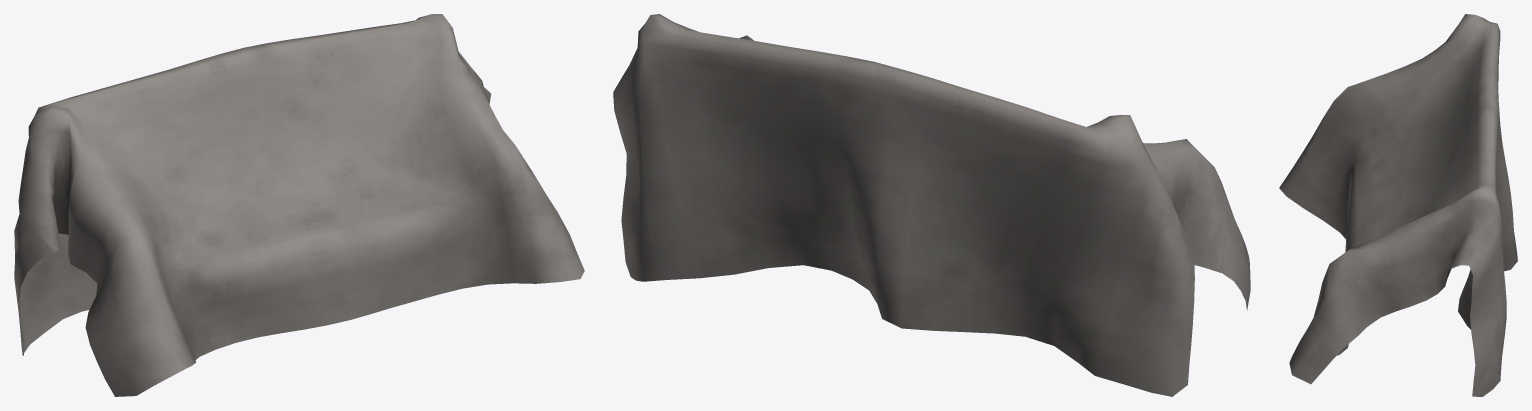
File: bench_cover_plastic.dae
3 views of the same model, side by side, from view 1: azimuth 30°, elevation 25°; view 2: azimuth 150°, elevation 25°; view 3: azimuth 270°, elevation 25° (orthographic). The views are drawn at different scales.
Visible parts, largest first — view 1: pPlane5; view 2: pPlane5; view 3: pPlane5.
Part boxes in pixels (left/top/right/bottom): pPlane5: left=14, top=14, right=584, bottom=396; pPlane5: left=613, top=14, right=1250, bottom=396; pPlane5: left=1279, top=14, right=1517, bottom=396.
Size of the model in its own units: 1.86 by 0.8593 by 0.892.
1 material, 1 textured.
